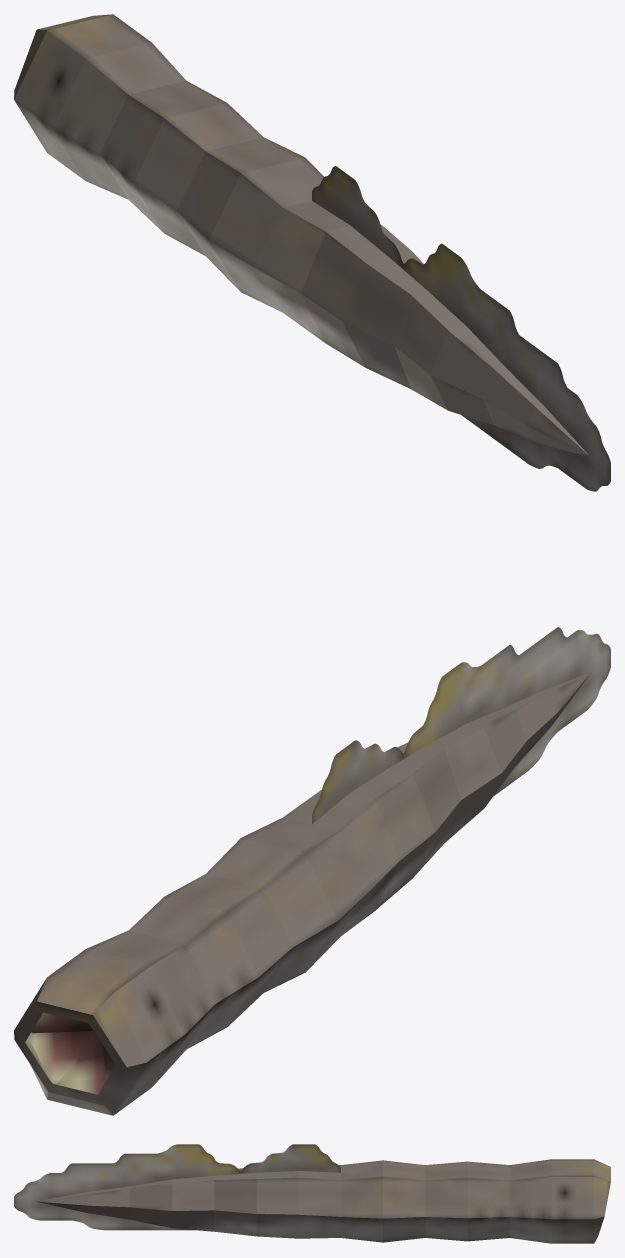
The model's file is Lamprey.fbx.
3 views of the same model, one above another, from view 1: azimuth 30°, elevation 25°; view 2: azimuth 150°, elevation 25°; view 3: azimuth 270°, elevation 25° (orthographic). The views are drawn at different scales.
Parts seen in each view (by area): view 1: Body, Fin; view 2: Body, Fin; view 3: Body, Fin.
Boxes of the visible parts, bbox=[...] form: Body: bbox=[14, 14, 591, 457]; Fin: bbox=[312, 166, 610, 491]; Body: bbox=[14, 672, 591, 1115]; Fin: bbox=[312, 627, 610, 823]; Body: bbox=[36, 1159, 610, 1243]; Fin: bbox=[14, 1144, 340, 1230].
Size of the model in its own units: 49.55 by 59.38 by 354.
Materials: 1 (1 with a texture image).
